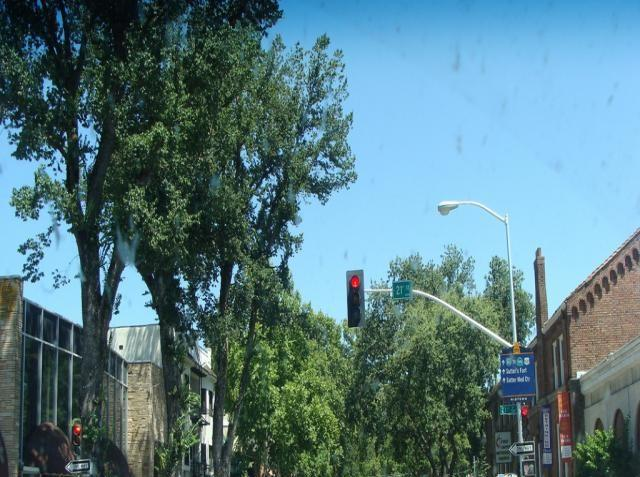red_light: (347, 269, 365, 326), (71, 424, 81, 458), (521, 404, 530, 441)
